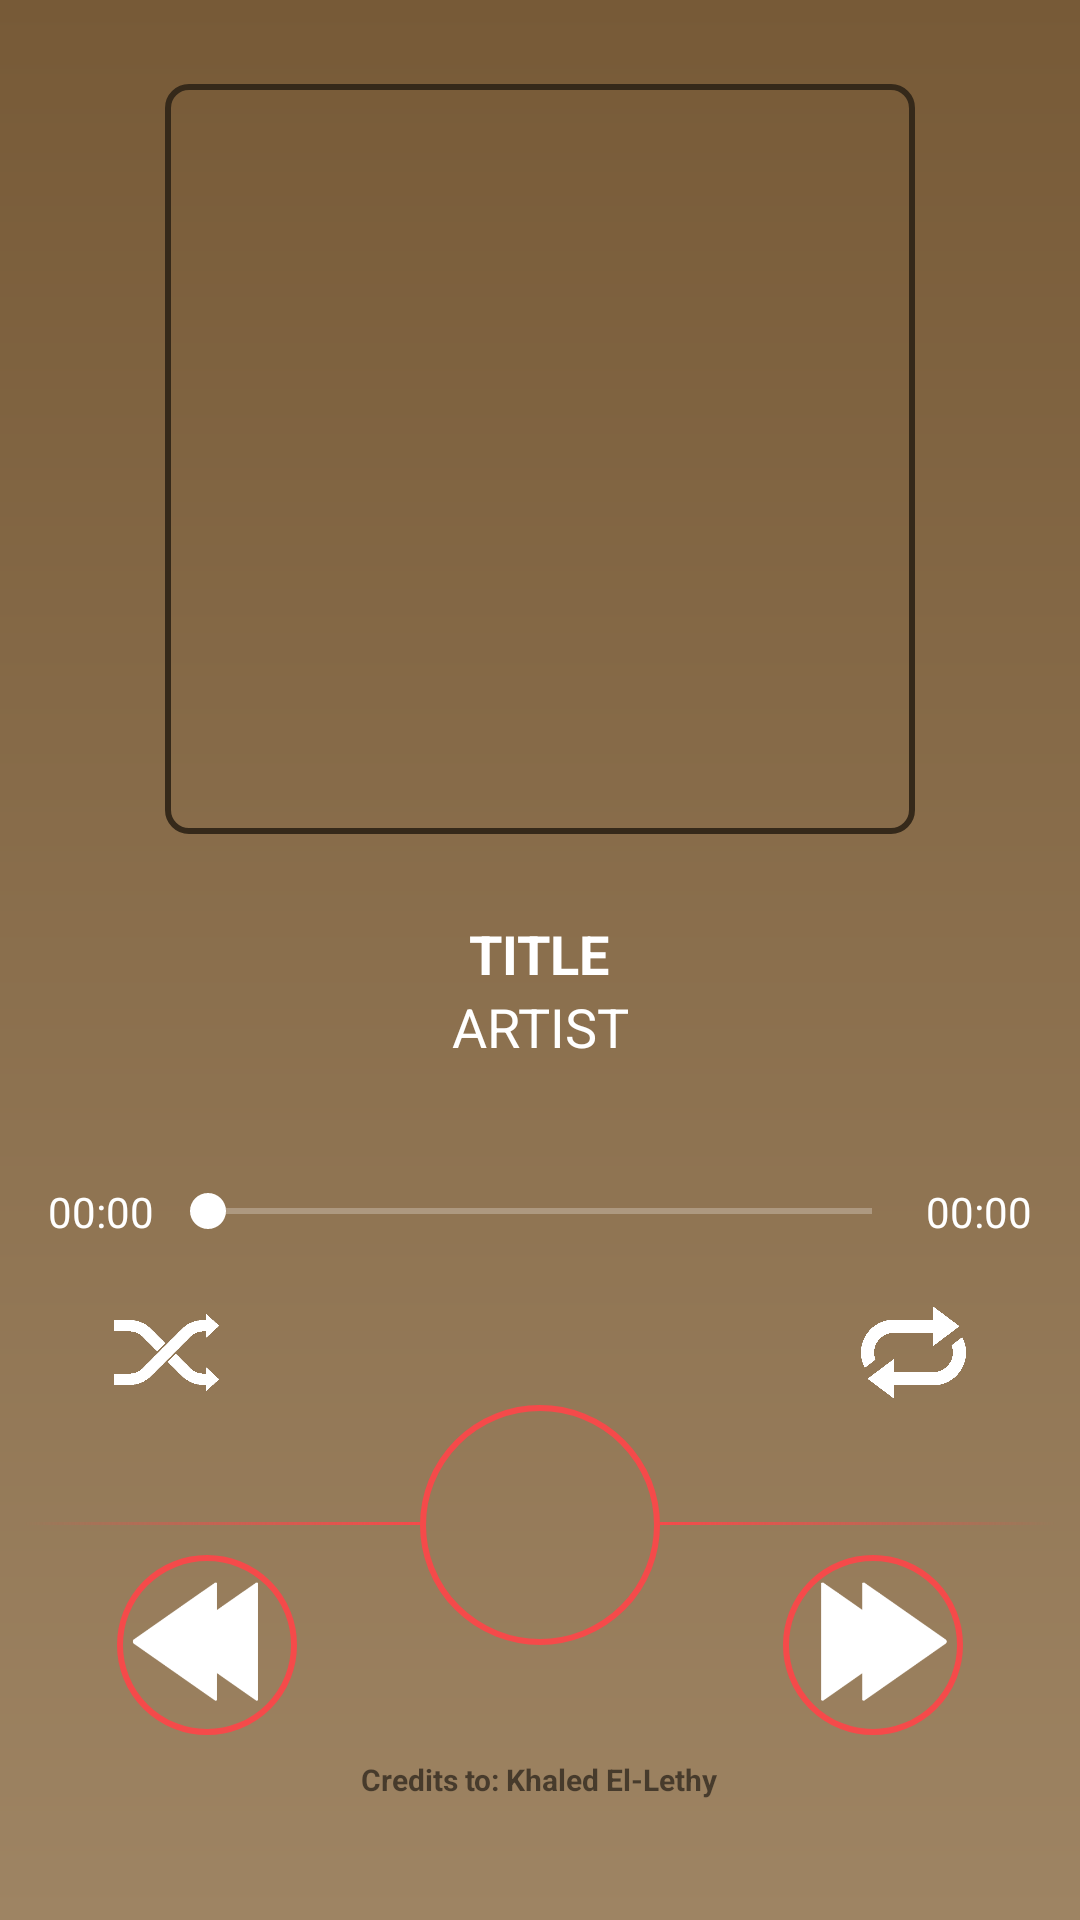

Screen size 1080w x 1920h. Icon name, then its box in pixels as (x1, y1, x2, y2):
backward: (117, 1555, 297, 1735)
forward: (783, 1555, 963, 1735)
repeat: (861, 1307, 966, 1398)
shuffle: (114, 1314, 219, 1391)
